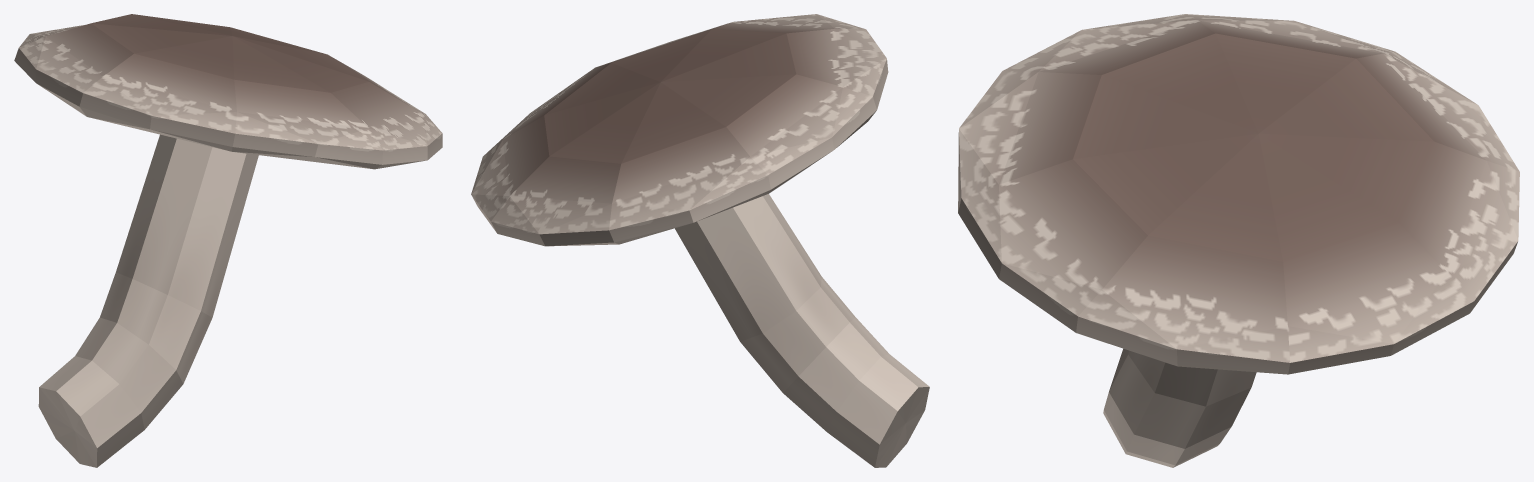
Rendered from shiitakeSingle1.fbx.
3 views of the same model, side by side, from view 1: azimuth 30°, elevation 25°; view 2: azimuth 150°, elevation 25°; view 3: azimuth 270°, elevation 25° (orthographic). The views are drawn at different scales.
Parts seen in each view (by area): view 1: shiitakeSingle1; view 2: shiitakeSingle1; view 3: shiitakeSingle1.
Part boxes in pixels (bbox=[...]): shiitakeSingle1: bbox=[14, 14, 442, 467]; shiitakeSingle1: bbox=[471, 14, 929, 467]; shiitakeSingle1: bbox=[958, 14, 1519, 467].
Size of the model in its own units: 19.26 by 18.59 by 19.8.
